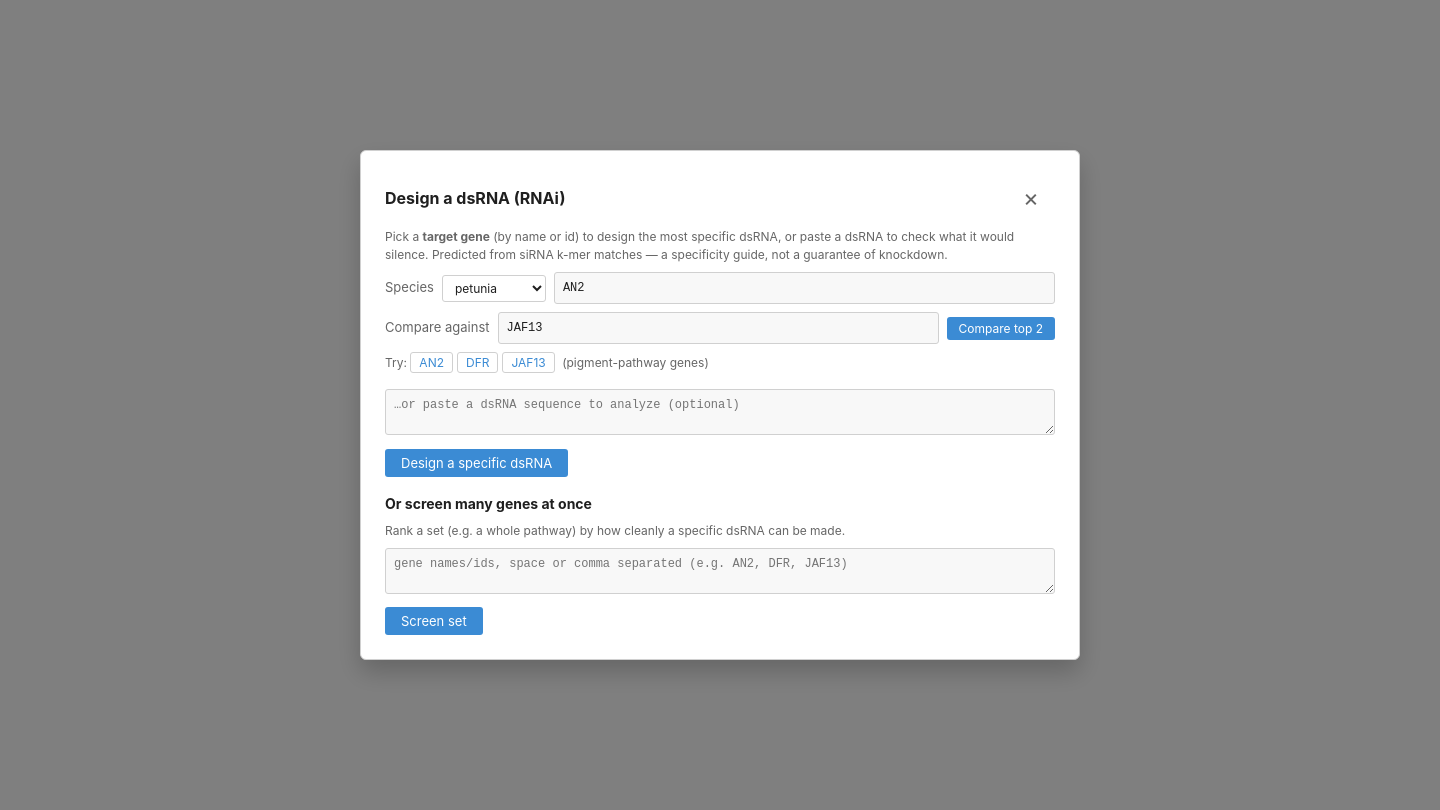
Test case: DsRnaPanel › supports side-by-side comparison for two targets
Click the button "Compare top 2" at (1001, 328), box [947,316,1055,340]
(page scrolled)
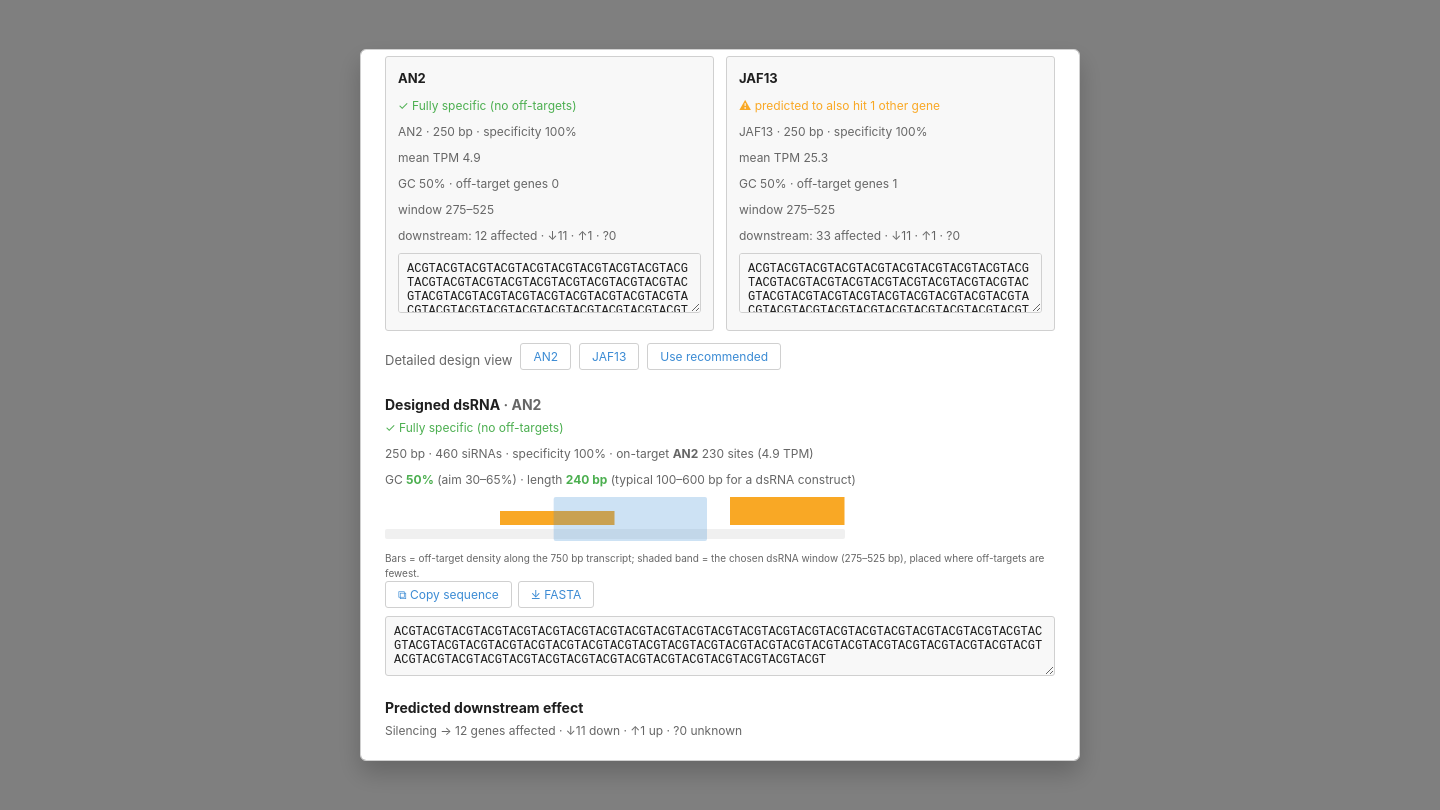
Now the heading "AN2" is shown, box [398,70,426,86]
Now the heading "JAF13" is shown, box [739,70,778,86]
Now the heading "Designed dsRNA · AN2" is shown, box [385,396,541,413]
